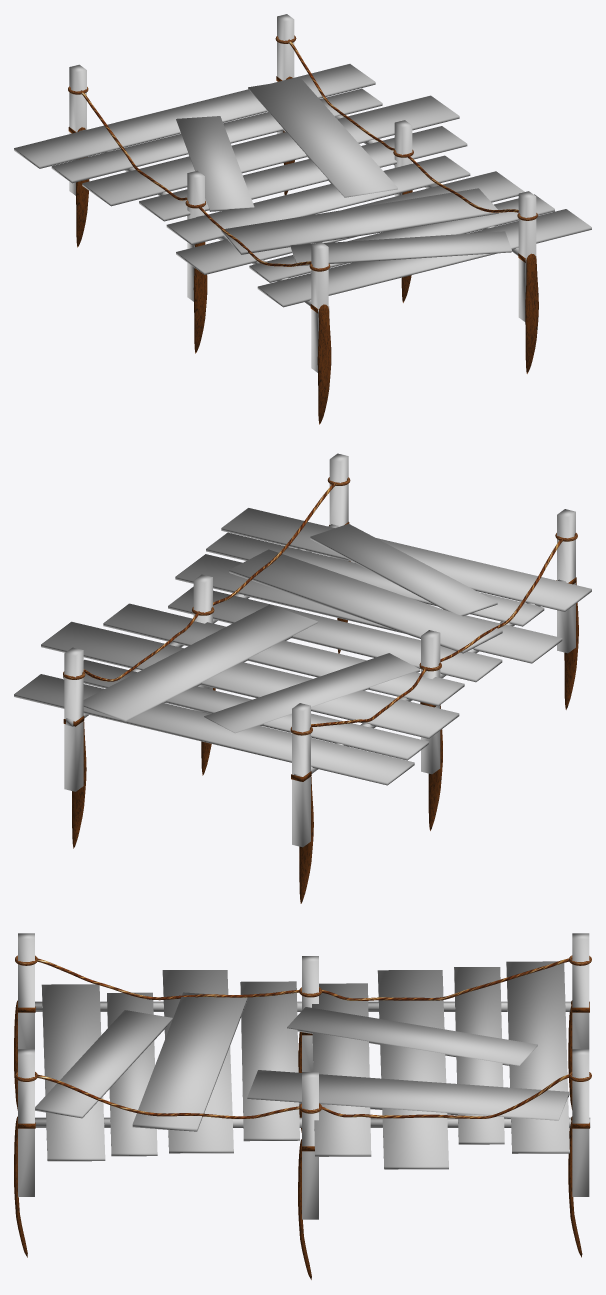
Rendered from Pier.fbx.
3 views of the same model, one above another, from view 1: azimuth 30°, elevation 25°; view 2: azimuth 150°, elevation 25°; view 3: azimuth 270°, elevation 25° (orthographic). The views are drawn at different scales.
Parts seen in each view (by area): view 1: Knots; view 2: Knots; view 3: Knots.
Boxes of the visible parts, x1,y1,x2,y2 form: Knots: [14, 14, 591, 424]; Knots: [14, 453, 591, 903]; Knots: [14, 933, 591, 1279].
Bounding box in the file's own units: 222 × 115 × 264.
